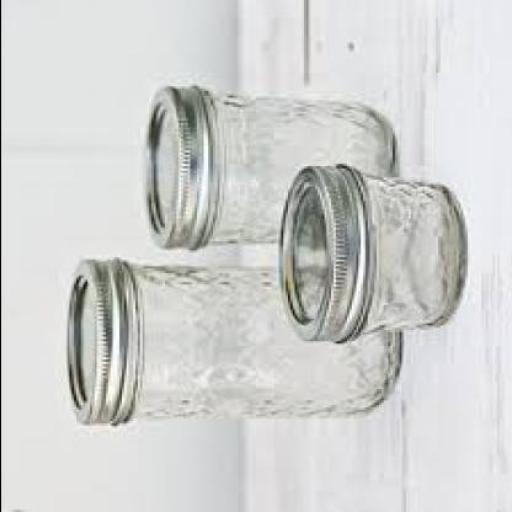glass: (125, 262, 398, 414), (202, 89, 390, 241), (358, 172, 462, 335)
metal: (275, 162, 374, 339), (141, 82, 207, 245), (62, 257, 126, 421)
